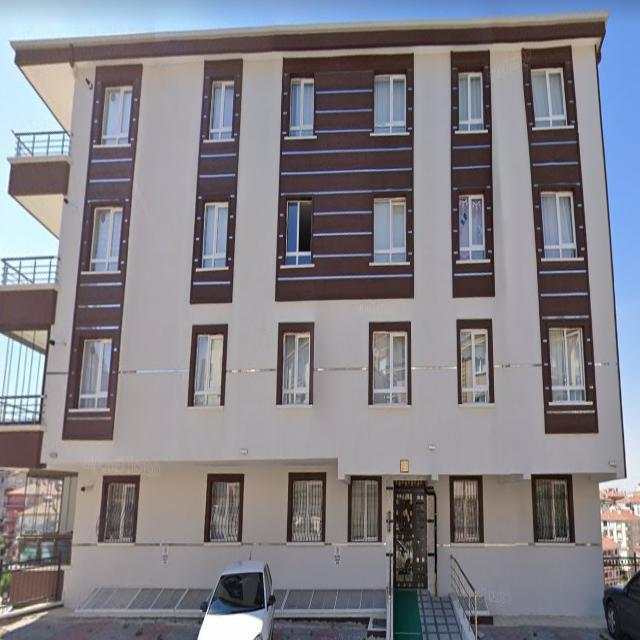Building: (0, 11, 626, 627)
